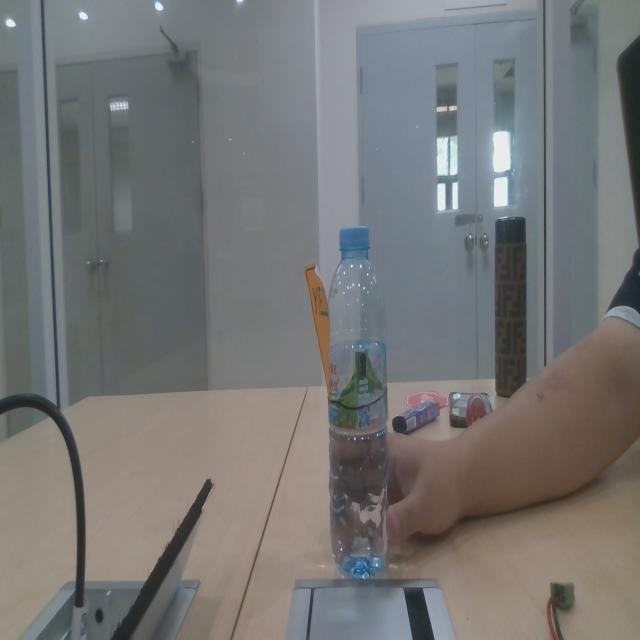Yield: (299, 254, 334, 407)
